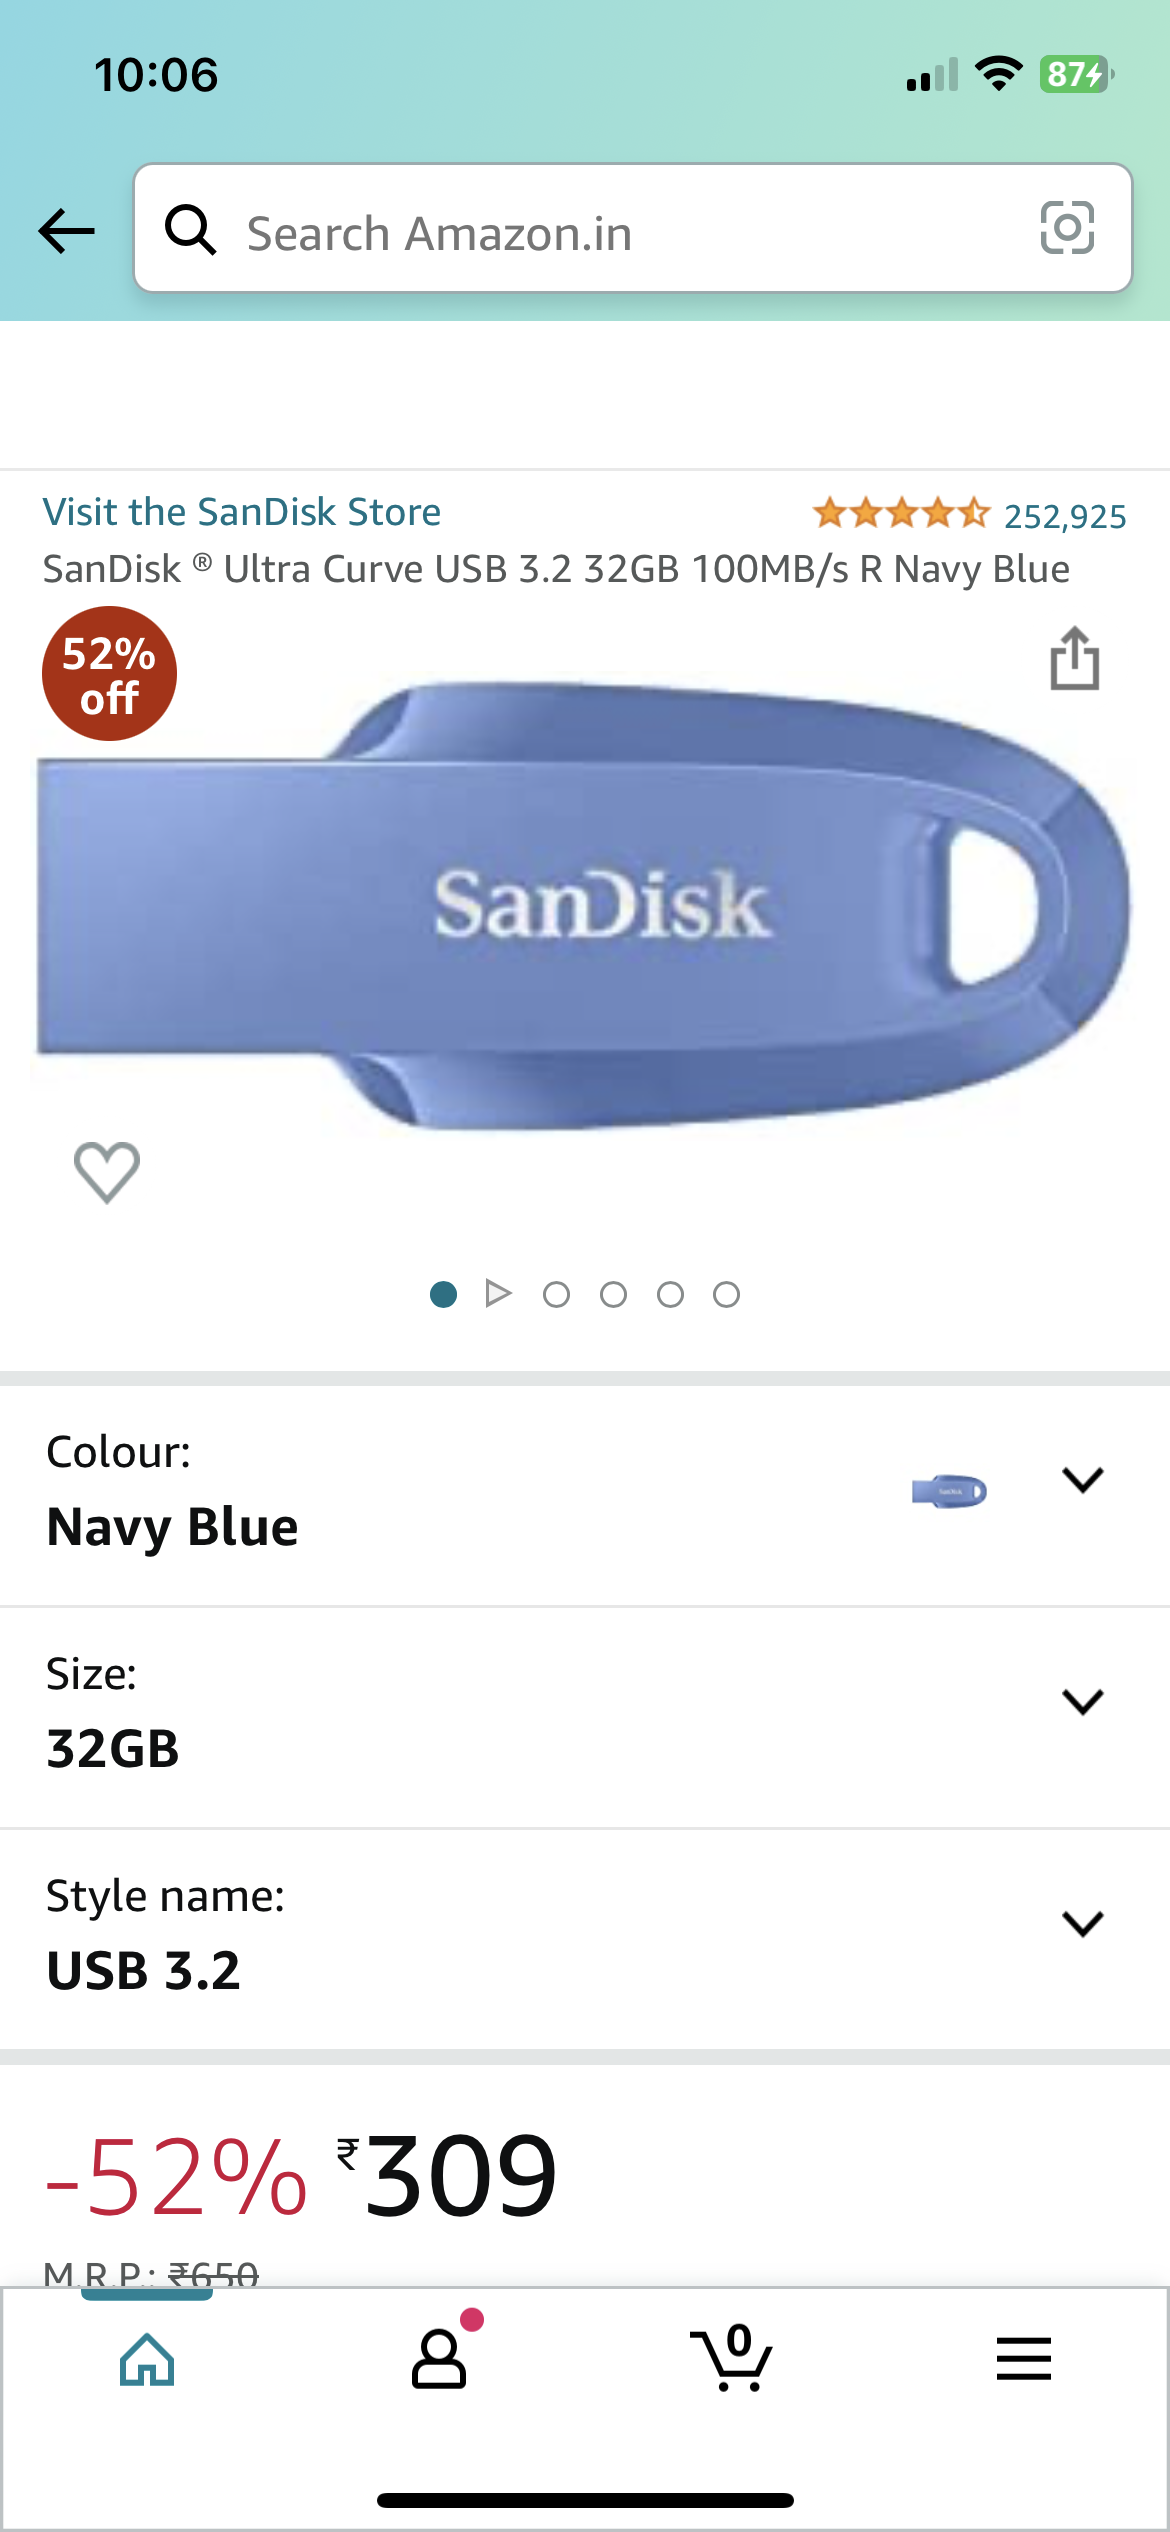PenDrive: (36, 677, 1136, 1129)
